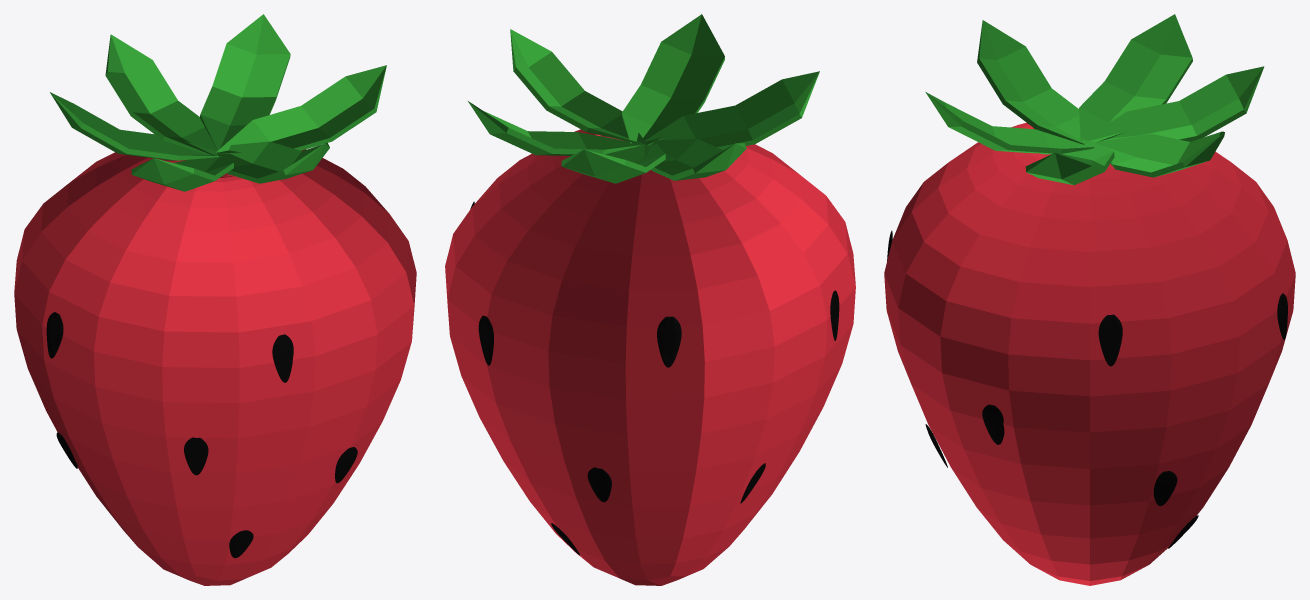
File: strawberry.fbx
3 renders of one model, left to right at view 1: azimuth 30°, elevation 25°; view 2: azimuth 150°, elevation 25°; view 3: azimuth 270°, elevation 25°, orthographic. The views are drawn at different scales.
Parts seen in each view (by area): view 1: Cube.022; view 2: Cube.022; view 3: Cube.022.
Part boxes in pixels (x1,y1,x2,y2): Cube.022: [14, 14, 416, 585]; Cube.022: [445, 14, 855, 585]; Cube.022: [884, 14, 1295, 585].
Size of the model in its own units: 37.04 by 49.88 by 36.91.
